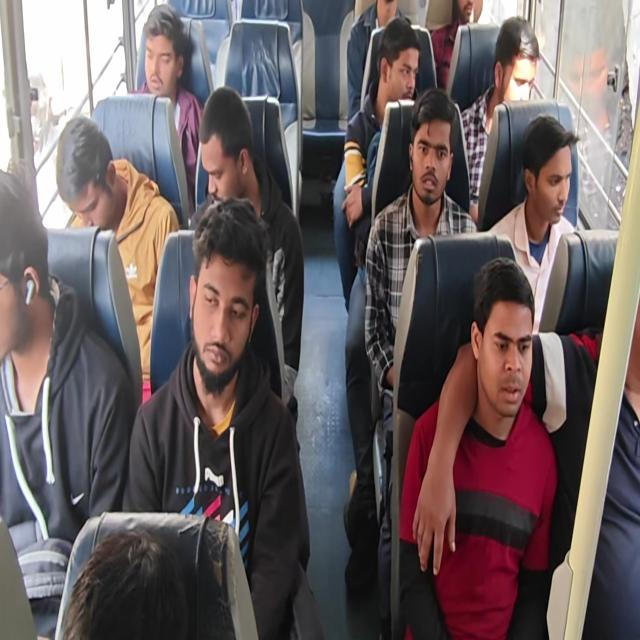person: (1, 1, 638, 638), (434, 113, 638, 636), (122, 196, 324, 638), (0, 163, 137, 638), (363, 86, 479, 636), (398, 256, 558, 638), (190, 85, 305, 452), (55, 114, 180, 403), (332, 17, 421, 311), (486, 114, 580, 334), (460, 15, 540, 223), (129, 4, 204, 214), (60, 528, 189, 638), (345, 0, 404, 122), (430, 0, 482, 91)
